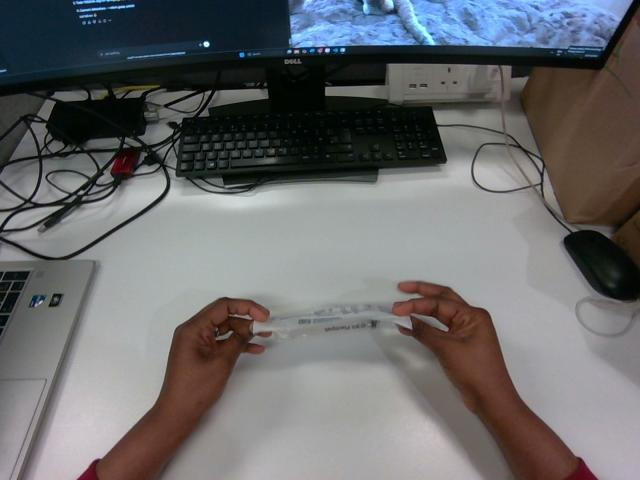syringe: (252, 304, 411, 338)
